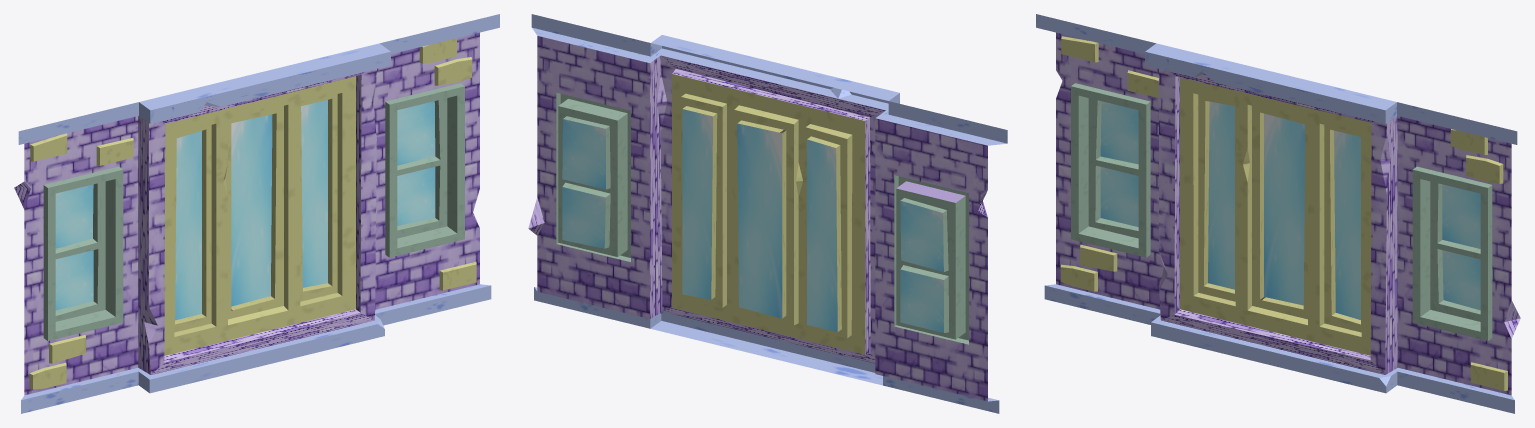
File: House_03_Front_Windows.fbx
3 renders of one model, left to right at view 1: azimuth 30°, elevation 25°; view 2: azimuth 150°, elevation 25°; view 3: azimuth 330°, elevation 25°, orthographic.
Visible parts, largest first — view 1: SM_Bld_Apartment_03; view 2: SM_Bld_Apartment_03; view 3: SM_Bld_Apartment_03.
Boxes of the visible parts, <box> form: SM_Bld_Apartment_03: <box>14,14,499,413</box>; SM_Bld_Apartment_03: <box>528,14,1007,413</box>; SM_Bld_Apartment_03: <box>1036,14,1520,413</box>.
Bounding box in the file's own units: 528 × 300 × 54.54.
